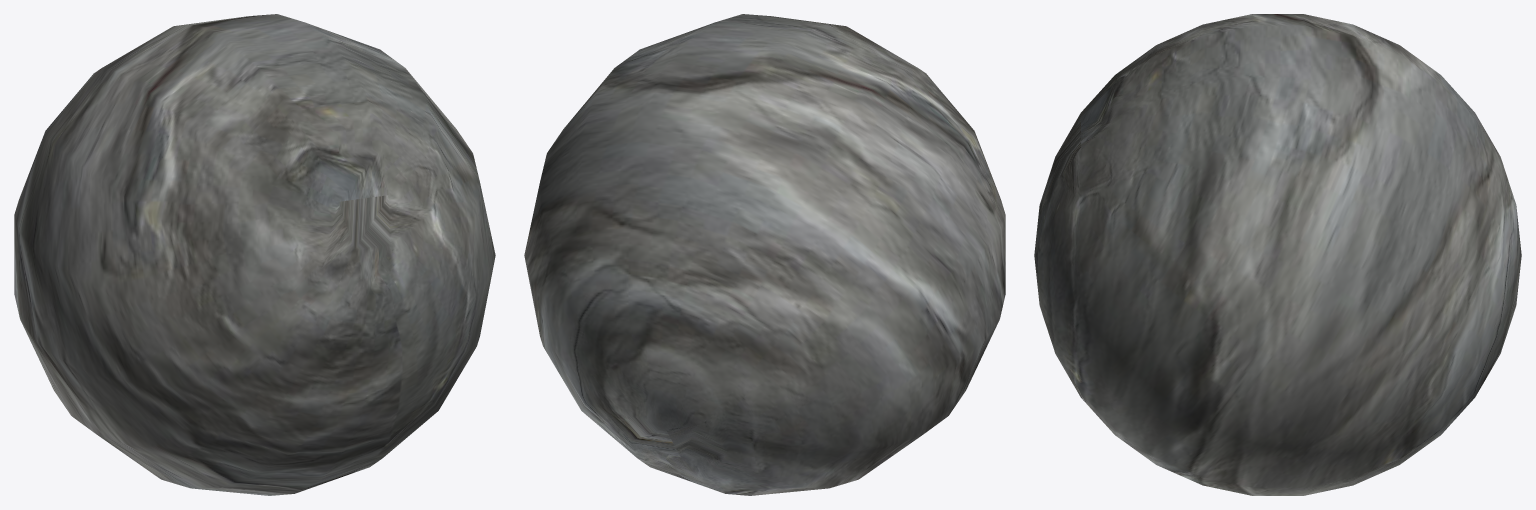
File: catapult-bullet.fbx
3 views of the same model, side by side, from view 1: azimuth 30°, elevation 25°; view 2: azimuth 150°, elevation 25°; view 3: azimuth 270°, elevation 25° (orthographic).
Parts seen in each view (by area): view 1: Sphere; view 2: Sphere; view 3: Sphere.
Part boxes in pixels (<box>): Sphere: <box>14,14,495,495</box>; Sphere: <box>524,14,1005,495</box>; Sphere: <box>1034,14,1521,495</box>.
Bounding box in the file's own units: 1.97 × 1.98 × 2.
1 material, 1 textured.
